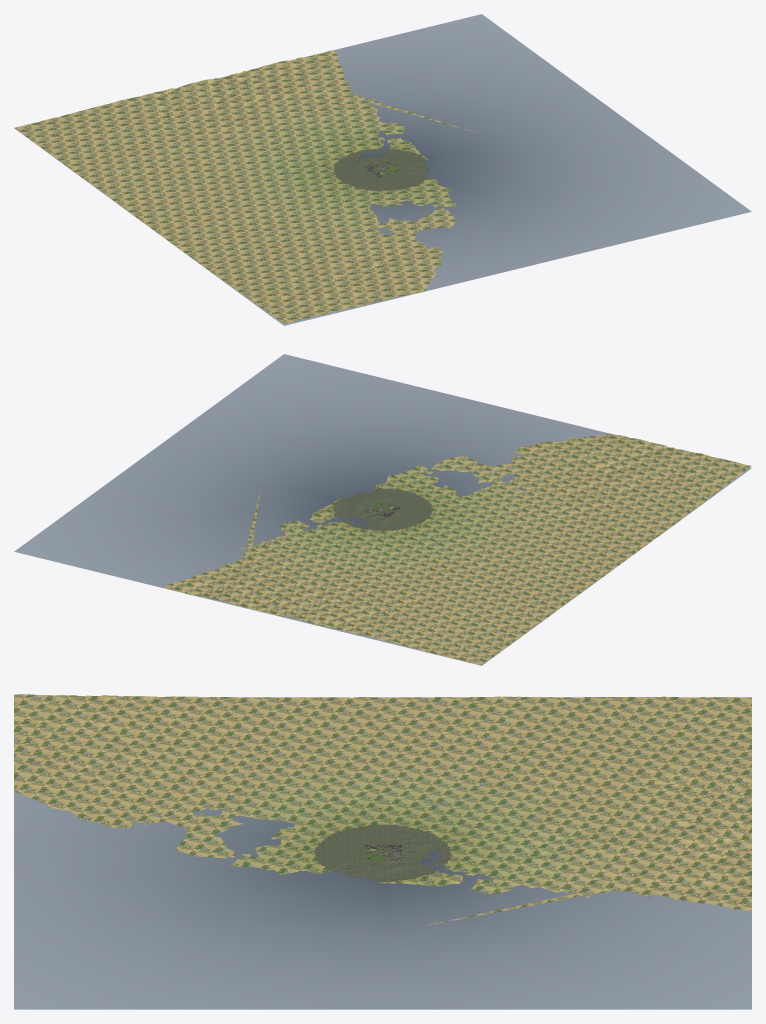
Rendered from scg_backdrop_part1.glb.
The picture shows the model from 3 angles, top to bottom: view 1: azimuth 30°, elevation 25°; view 2: azimuth 150°, elevation 25°; view 3: azimuth 270°, elevation 25°; orthographic projection. The views are drawn at different scales.
Visible parts, largest first — view 1: bg_far_terrain, bg_far_water, bg_far_suburb; view 2: bg_far_terrain, bg_far_water, bg_far_suburb; view 3: bg_far_terrain, bg_far_water, bg_far_suburb, bg_near_ground.
Boxes of the visible parts, <box> form: bg_far_terrain: <box>14,50,480,323</box>; bg_far_water: <box>15,14,751,325</box>; bg_far_suburb: <box>333,149,429,190</box>; bg_far_terrain: <box>163,433,751,665</box>; bg_far_water: <box>14,354,751,665</box>; bg_far_suburb: <box>333,488,432,531</box>; bg_far_terrain: <box>14,694,751,927</box>; bg_far_water: <box>14,741,751,1009</box>; bg_far_suburb: <box>315,824,450,881</box>; bg_near_ground: <box>364,845,401,860</box>.
Bounding box in the file's own units: 60003 × 310 × 60004.
33 materials, 21 textured.
